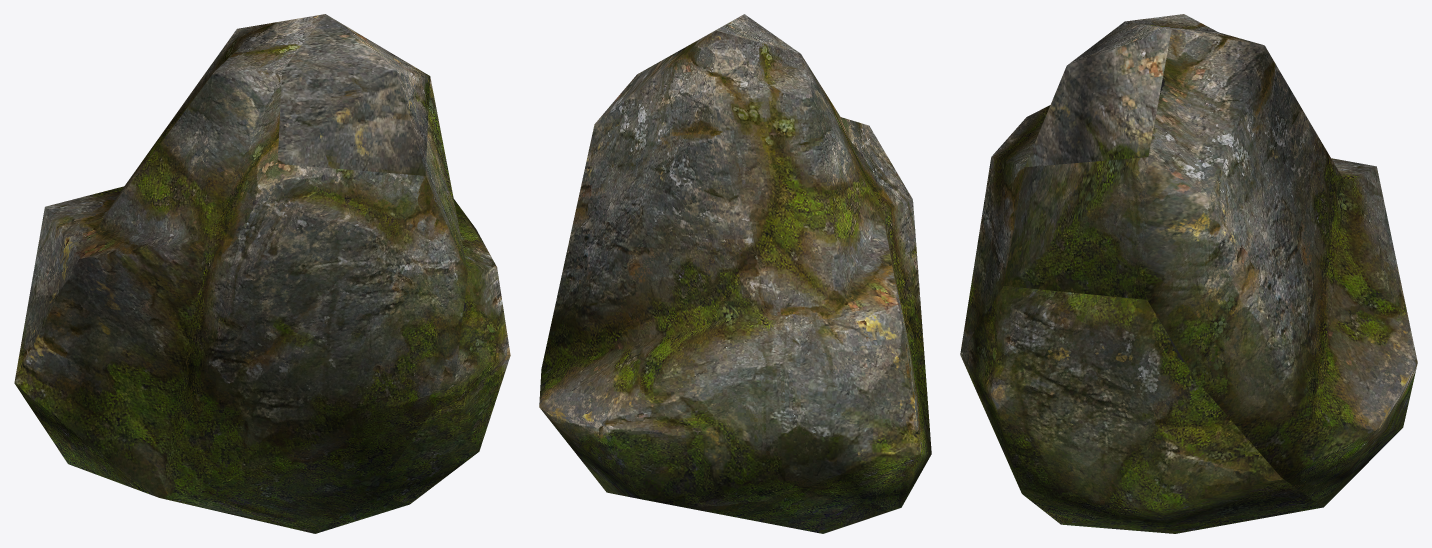
File: Rock04_lod2.glb
The picture shows the model from 3 angles, left to right: view 1: azimuth 30°, elevation 25°; view 2: azimuth 150°, elevation 25°; view 3: azimuth 270°, elevation 25°; orthographic projection. The views are drawn at different scales.
Visible parts, largest first — view 1: common_rock04_lod2; view 2: common_rock04_lod2; view 3: common_rock04_lod2.
Part boxes in pixels (x1,y1,x2,y2): common_rock04_lod2: (14, 14, 510, 533); common_rock04_lod2: (539, 14, 931, 533); common_rock04_lod2: (960, 14, 1417, 533).
Bounding box in the file's own units: 2.86 × 3.22 × 2.7.
Materials: 1 (1 with a texture image).
